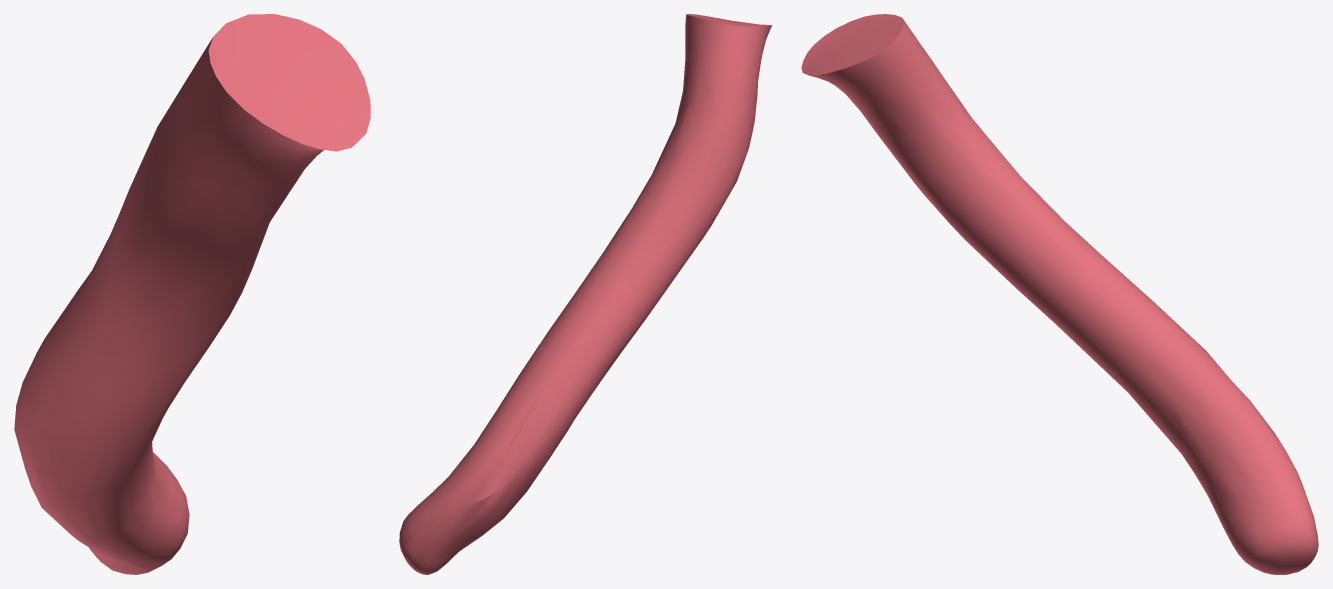
Rendered from fma51242_mm3622m.glb.
3 renders of one model, left to right at view 1: azimuth 30°, elevation 25°; view 2: azimuth 150°, elevation 25°; view 3: azimuth 270°, elevation 25°, orthographic. The views are drawn at different scales.
Parts seen in each view (by area): view 1: FMA51242_MM3622M; view 2: FMA51242_MM3622M; view 3: FMA51242_MM3622M.
Boxes of the visible parts, x1,y1,x2,y2 form: FMA51242_MM3622M: (14, 14, 370, 574); FMA51242_MM3622M: (399, 14, 772, 574); FMA51242_MM3622M: (801, 14, 1318, 574).
Bounding box in the file's own units: 0.0172 × 0.0415 × 0.0394.
